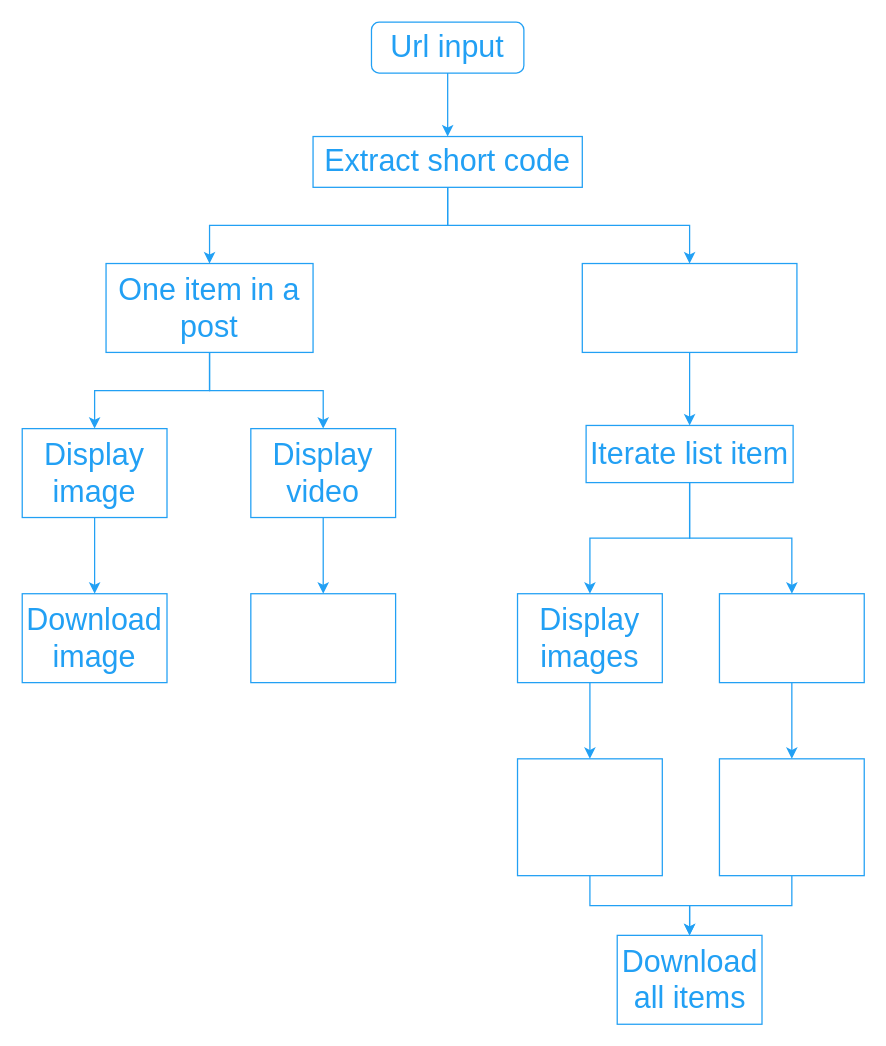
Image size: 886x1046. Some labels were removed from this diagram. The centre of each missing label's shape, as x and y in pixels:
Display videos: (791,637)
Download displayed image: (589,817)
Download displayed video: (791,817)
Download video: (323,637)
Multiple item in a post: (689,307)
